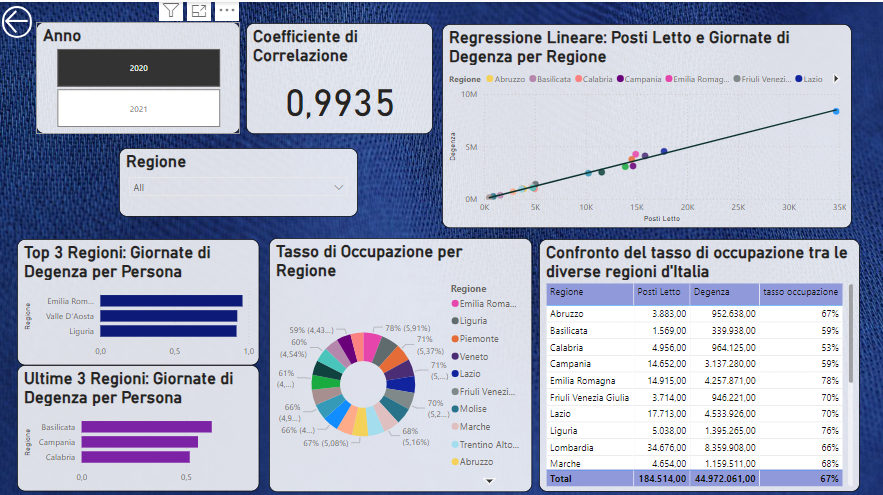

Layout of this report page (visuals, bound fields, positions):
{"tool":"powerbi","page":{"name":"Posti Letto/Giornate","canvas":[1280,720],"ordinal":3},"visuals":[{"type":"card","title":"Coefficiente di Correlazione","fields":{"Values":["Measures (2).posti_letto and giornate correlation for nome"]},"box":[357.1,30.2,269.3,159.8],"z":0},{"type":"slicer","title":"Anno","fields":{"Values":["Calendar.Year"]},"box":[54.7,28.8,293.8,161.3],"z":1000},{"type":"clusteredBarChart","title":"Top 3 Regioni: Giornate di Degenza per Persona","fields":{"Category":["sanita regioni.nome"],"Y":["Measures (2).Giornate di degenza per persona"]},"box":[27.3,340.9,349.4,182.4],"z":2000},{"type":"slicer","title":"Regione","fields":{"Values":["sanita regioni.nome"]},"box":[174.2,210.2,344.2,99.4],"z":3000},{"type":"clusteredBarChart","title":"Ultime 3 Regioni: Giornate di Degenza per Persona","fields":{"Category":["sanita regioni.nome"],"Y":["Measures (2).Giornate di degenza per persona"]},"box":[27.3,523.2,349.4,182.4],"z":4000},{"type":"tableEx","title":"Confronto del tasso di occupazione tra le diverse regioni d''Italia","fields":{"Values":["sanita regioni.nome","Measures (2).Posti Letto ALL","Measures (2).Degenza ALL","Measures (2).tasso occupazione"]},"box":[779.2,341.2,461.9,364.1],"z":5000},{"type":"scatterChart","title":"Regressione Lineare: Posti Letto e Giornate di  Degenza per Regione","fields":{"Series":["sanita regioni.nome"],"Y":["Measures (2).Degenza ALL"],"X":["Measures (2).Posti Letto ALL"]},"box":[639.4,31.7,590.4,293.8],"z":6000},{"type":"donutChart","title":"Tasso di Occupazione per Regione","fields":{"Category":["sanita regioni.nome"],"Y":["Measures (2).tasso occupazione"]},"box":[390.2,339.8,378.7,365.8],"z":7000},{"type":"actionButton","box":[5.8,5.8,43.2,46.1],"z":7001}]}

Visuals, with their boxes in screenshot pixels (x1, y1, x2, y2), scaled from the page's 1280x720 canvas onto the 883x495 screenshot:
"Coefficiente di Correlazione" card: crop(246, 21, 432, 131)
"Anno" slicer: crop(38, 20, 240, 131)
"Top 3 Regioni: Giornate di Degenza per Persona" clusteredBarChart: crop(19, 234, 260, 360)
"Regione" slicer: crop(120, 145, 358, 213)
"Ultime 3 Regioni: Giornate di Degenza per Persona" clusteredBarChart: crop(19, 360, 260, 485)
"Confronto del tasso di occupazione tra le diverse regioni d''Italia" tableEx: crop(538, 235, 856, 485)
"Regressione Lineare: Posti Letto e Giornate di  Degenza per Regione" scatterChart: crop(441, 22, 848, 224)
"Tasso di Occupazione per Regione" donutChart: crop(269, 234, 530, 485)
actionButton: crop(4, 4, 34, 36)
